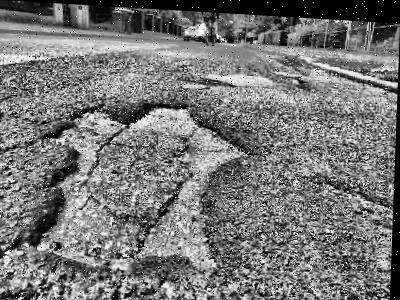pothole: (23, 90, 255, 273)
